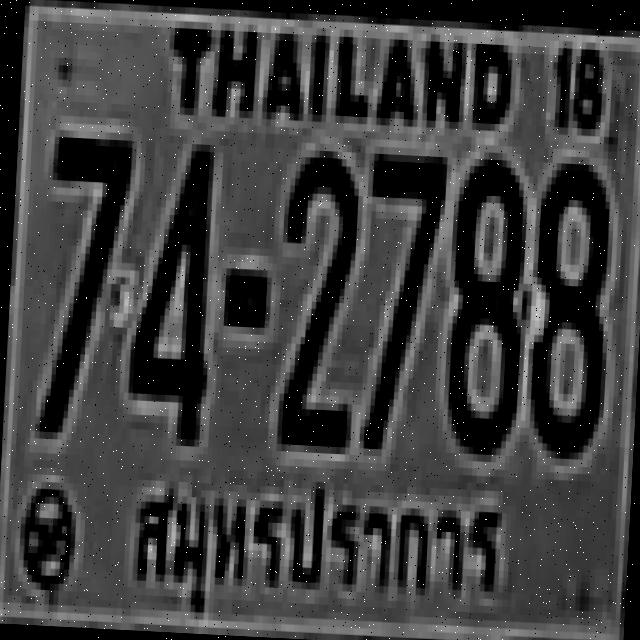2: (272, 150, 360, 448)
4: (122, 134, 215, 440)
7: (35, 130, 133, 436), (354, 150, 442, 448), (40, 129, 134, 349), (359, 150, 443, 362)
8: (524, 155, 612, 453), (442, 150, 526, 448)
SamutPrakan: (120, 460, 520, 639)
